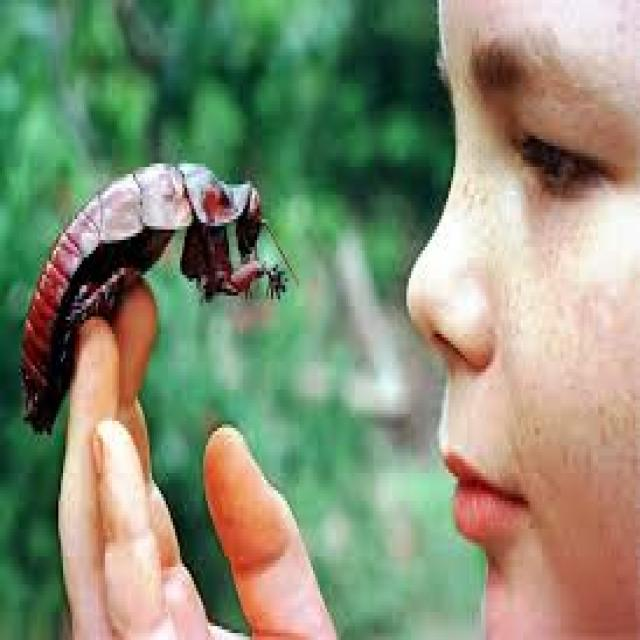Cockroach: (18, 150, 300, 442)
